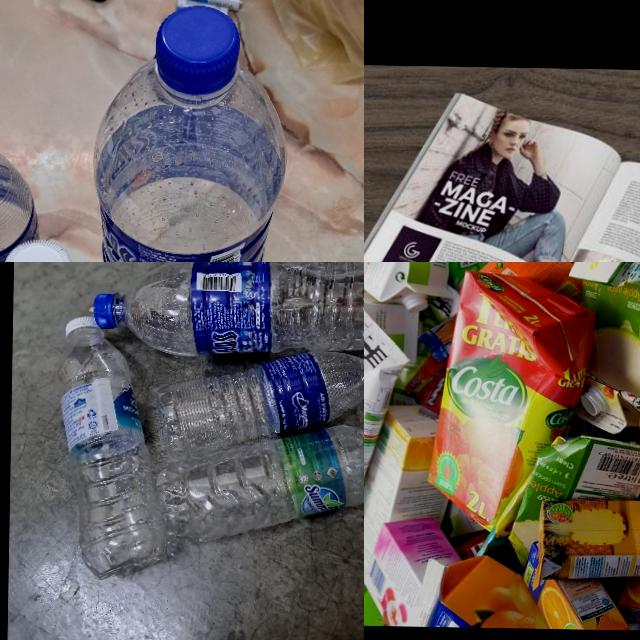caixinha: (424, 269, 596, 543), (364, 282, 413, 522), (409, 554, 553, 628), (364, 262, 456, 314)
garrafa plástica: (97, 61, 286, 262), (56, 339, 174, 582), (169, 422, 364, 541), (119, 262, 364, 354), (158, 349, 364, 456)
papel: (364, 92, 640, 262)
tampa plástica: (153, 6, 240, 96), (3, 238, 78, 262), (94, 292, 122, 333), (64, 312, 99, 341)
